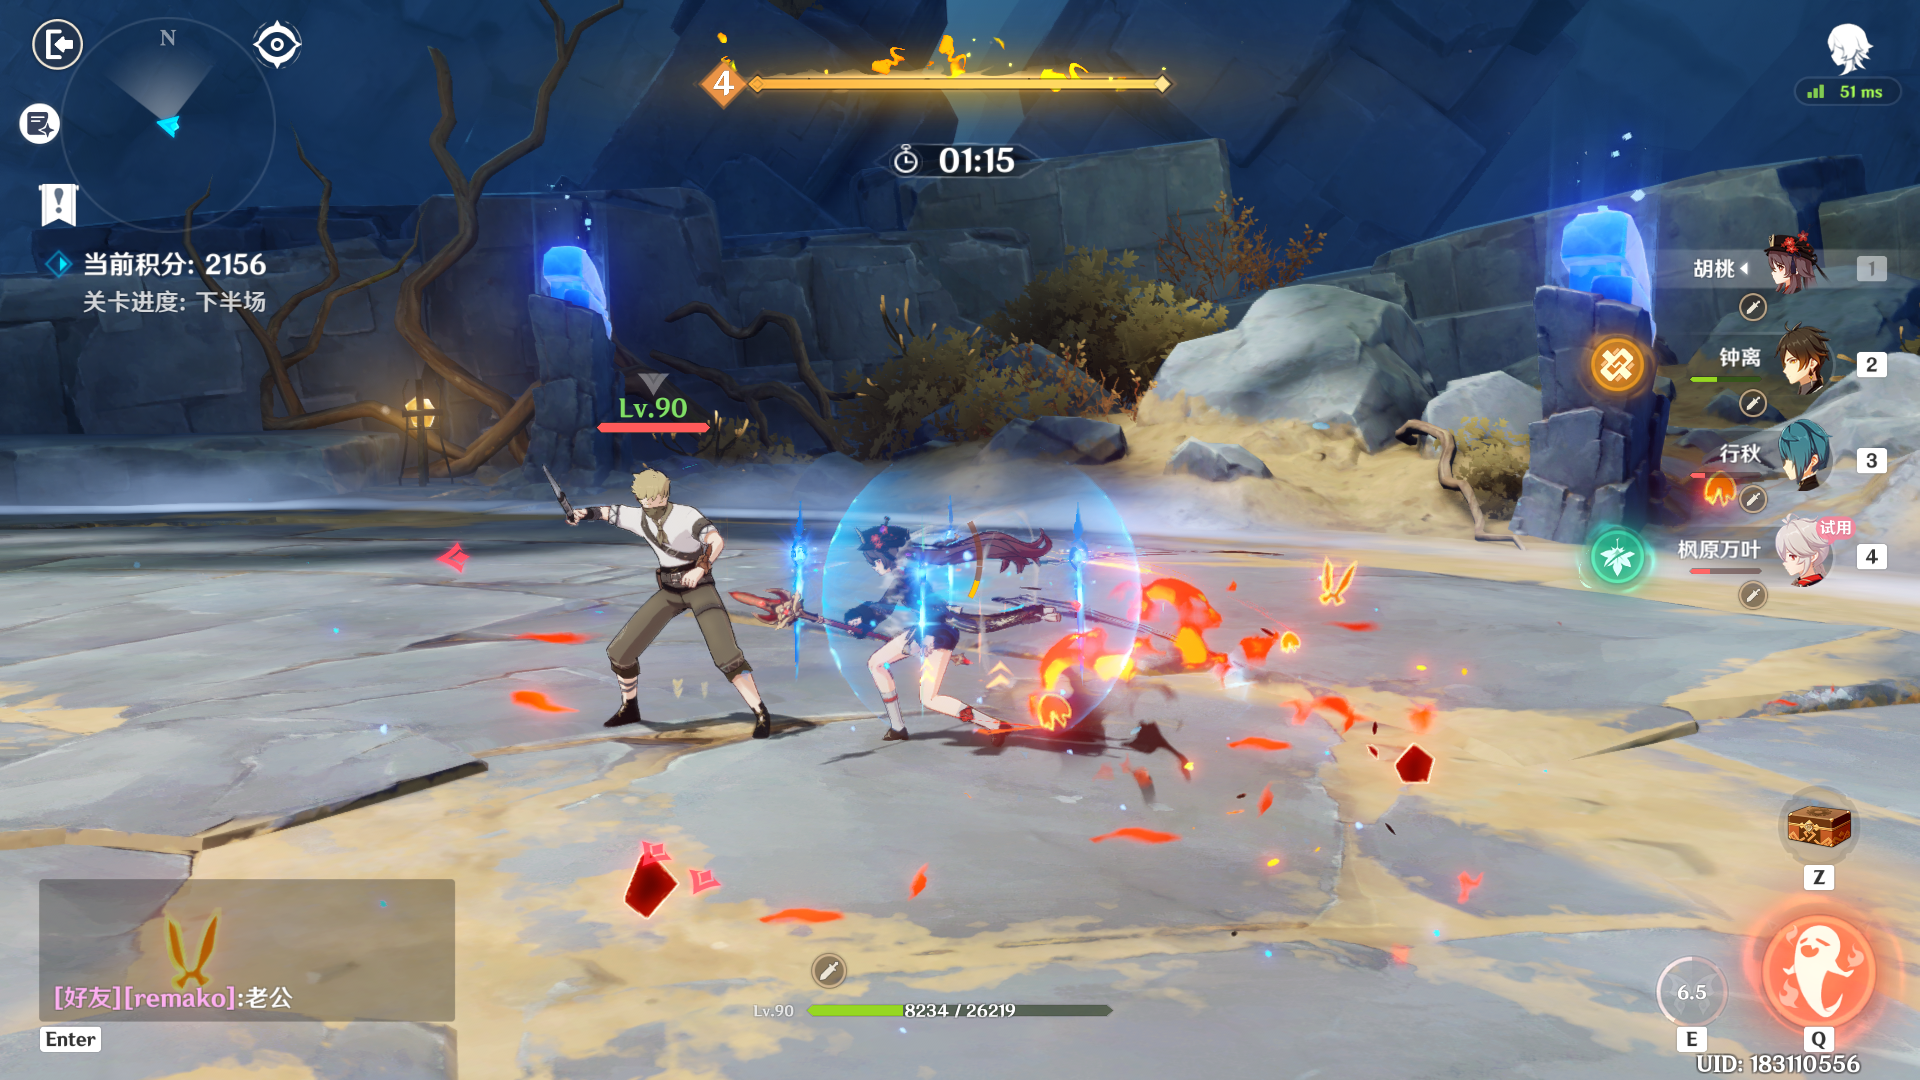character: (791, 491, 1091, 771)
robber: (551, 446, 782, 752)
